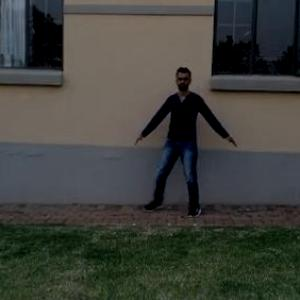land: (136, 71, 237, 226)
